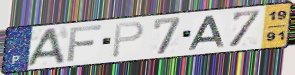7: (151, 15, 183, 57), (230, 9, 262, 49)
A: (25, 26, 67, 68), (186, 15, 226, 51)
F: (65, 23, 104, 63)
P: (110, 20, 146, 59)
